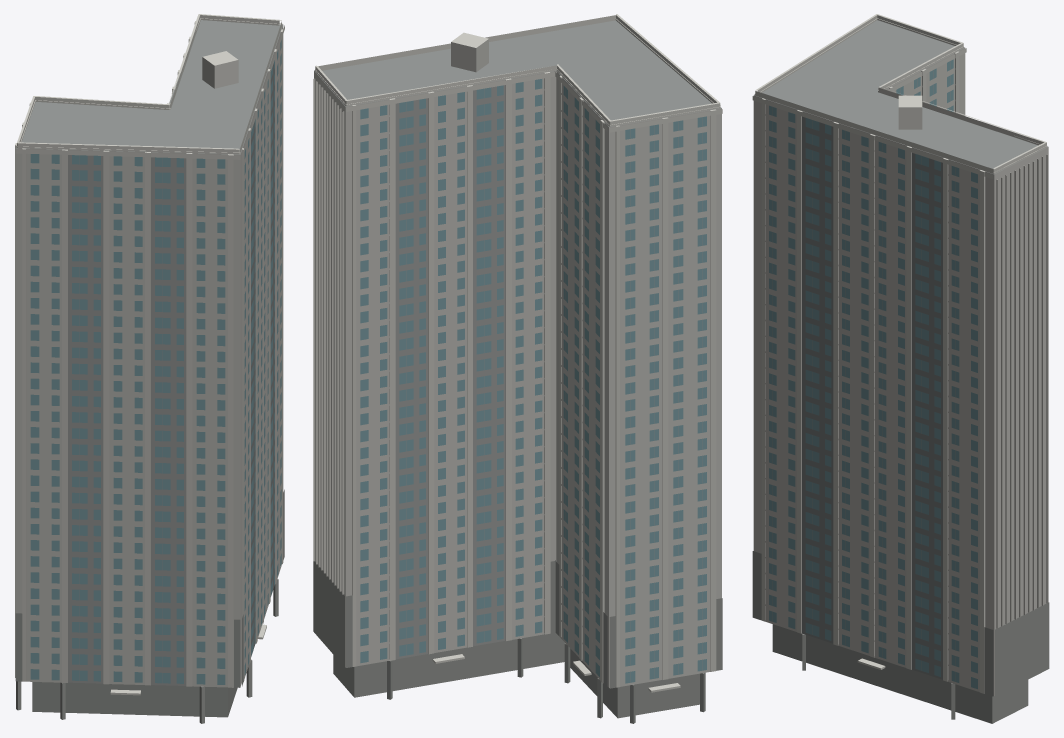
Rendered from maple-xi-201.glb.
3 renders of one model, left to right at view 1: azimuth 30°, elevation 25°; view 2: azimuth 150°, elevation 25°; view 3: azimuth 270°, elevation 25°, orthographic. The views are drawn at different scales.
Visible parts, largest first — view 1: maple-xi-201; view 2: maple-xi-201; view 3: maple-xi-201.
Part boxes in pixels (left/top/right/bottom): maple-xi-201: left=15, top=14, right=284, bottom=723; maple-xi-201: left=313, top=14, right=722, bottom=723; maple-xi-201: left=752, top=14, right=1049, bottom=723.
Bounding box in the file's own units: 65.89 × 113 × 52.52.
